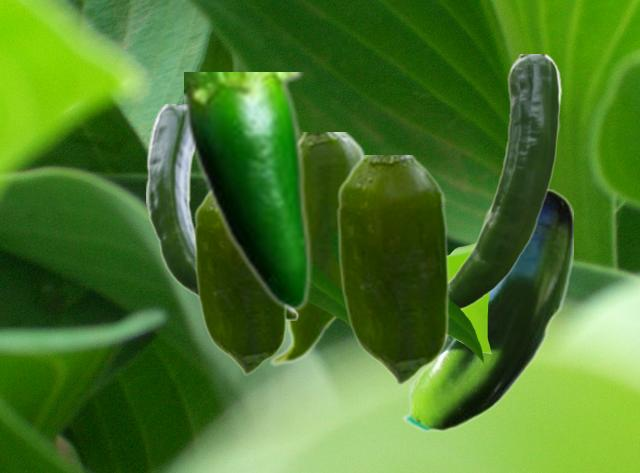green_chili: (402, 189, 572, 432), (146, 104, 298, 319), (184, 72, 311, 311), (449, 54, 561, 309), (336, 155, 448, 384), (268, 132, 367, 366), (193, 192, 286, 374)
